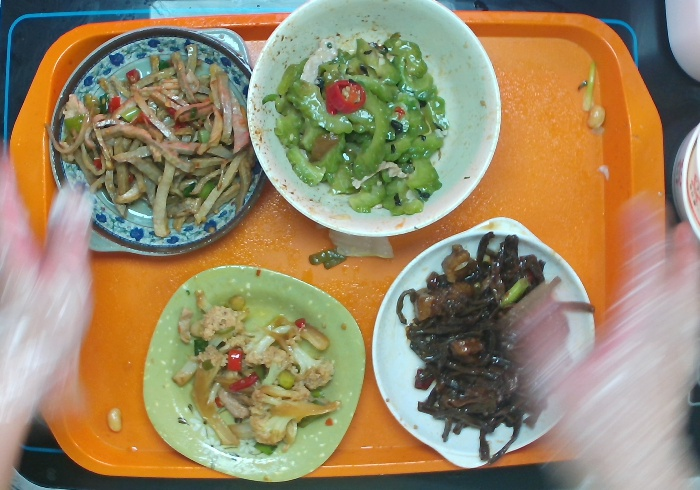NLDX-Bai_Se_Shuang_Er_Die: (370, 215, 599, 475)
NLDX-Bai_Se_Yuan_Wan: (242, 1, 504, 241)
NLDX-Lv_Hua_Fang_Die: (137, 261, 369, 487)
NLDX-Qing_Hua_Shuang_Er_Die: (43, 21, 267, 261)
